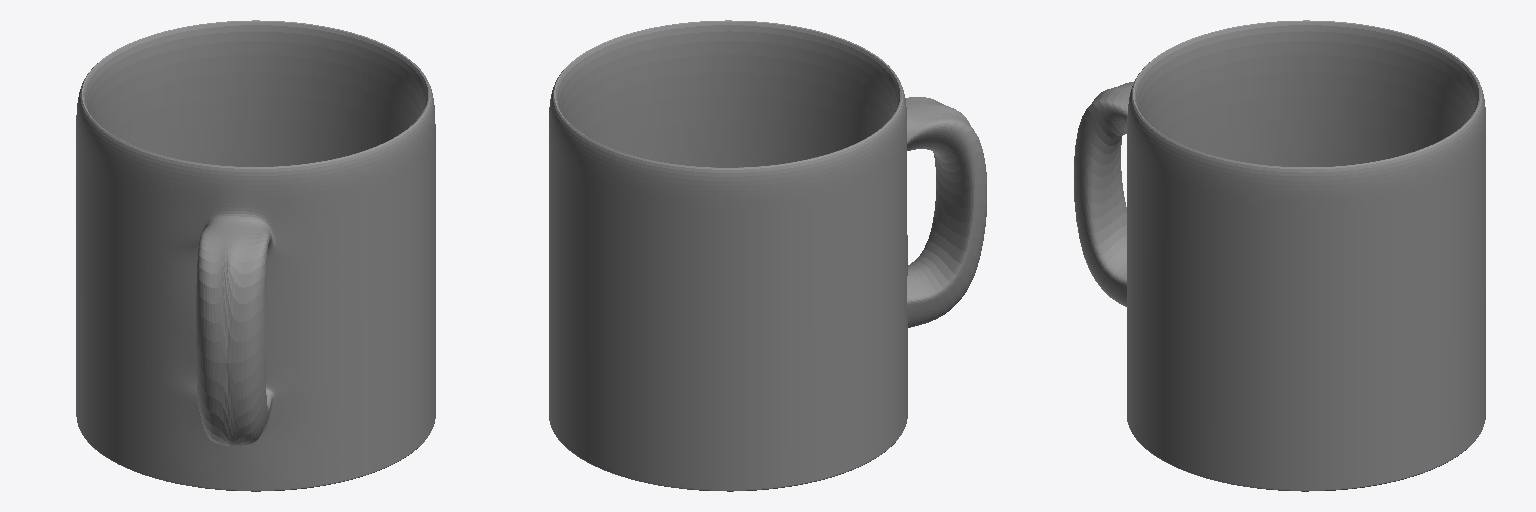
The robot description file, URDF, robot "goal_mark":
<?xml version="0.0" ?>
<robot name="goal_mark">
  <link name="goal_mark">
    <contact>
      <lateral_friction value="0.7"/>
      <rolling_friction value="0.0"/>
      <contact_cfm value="0.0"/>
      <contact_erp value="0.1"/>
    </contact>
    <inertial>
      <origin rpy="0 0 0" xyz="0 0 0"/>
       <mass value=".2"/>
       <inertia ixx=".01" ixy="0" ixz="0" iyy=".01" iyz="0" izz=".01"/>
    </inertial>
    <visual>
      <origin rpy="3.14 0 0" xyz="0.0 0.0 0.0"/>
      <geometry>
        <!-- <cylinder radius="0.03" length="0.05"/> -->
        <mesh filename="cup.obj" scale="1 1 1"/>
      </geometry>
      <material name="desert sand">
        <color rgba="0.6 0.6 0.6 1" />
      </material>
    </visual>
     <collision>
      <origin rpy="0 0 0" xyz="0 0 0.0"/>
      <geometry>
        <cylinder radius="0.03" length="0.07"/>
      </geometry>
    </collision>    
  </link>


</robot>

--- Facts derived from the render (not from the file) ---
The picture shows the robot from 3 angles, left to right: view 1: azimuth 30°, elevation 25°; view 2: azimuth 150°, elevation 25°; view 3: azimuth 270°, elevation 25°; orthographic projection.
Robot: goal_mark — 1 links, 0 joints (none); root link goal_mark; default pose: every joint at zero.
Visible links, largest first — view 1: goal_mark; view 2: goal_mark; view 3: goal_mark.
Boxes of the visible links, x1,y1,x2,y2 form: goal_mark: (76, 20, 435, 491); goal_mark: (549, 20, 986, 491); goal_mark: (1074, 20, 1485, 491).
Size in the robot's own frame: 0.0597 by 0.0685 by 0.0593 metres.
1 mesh visuals loaded from 1 distinct referenced files (1 OBJ).